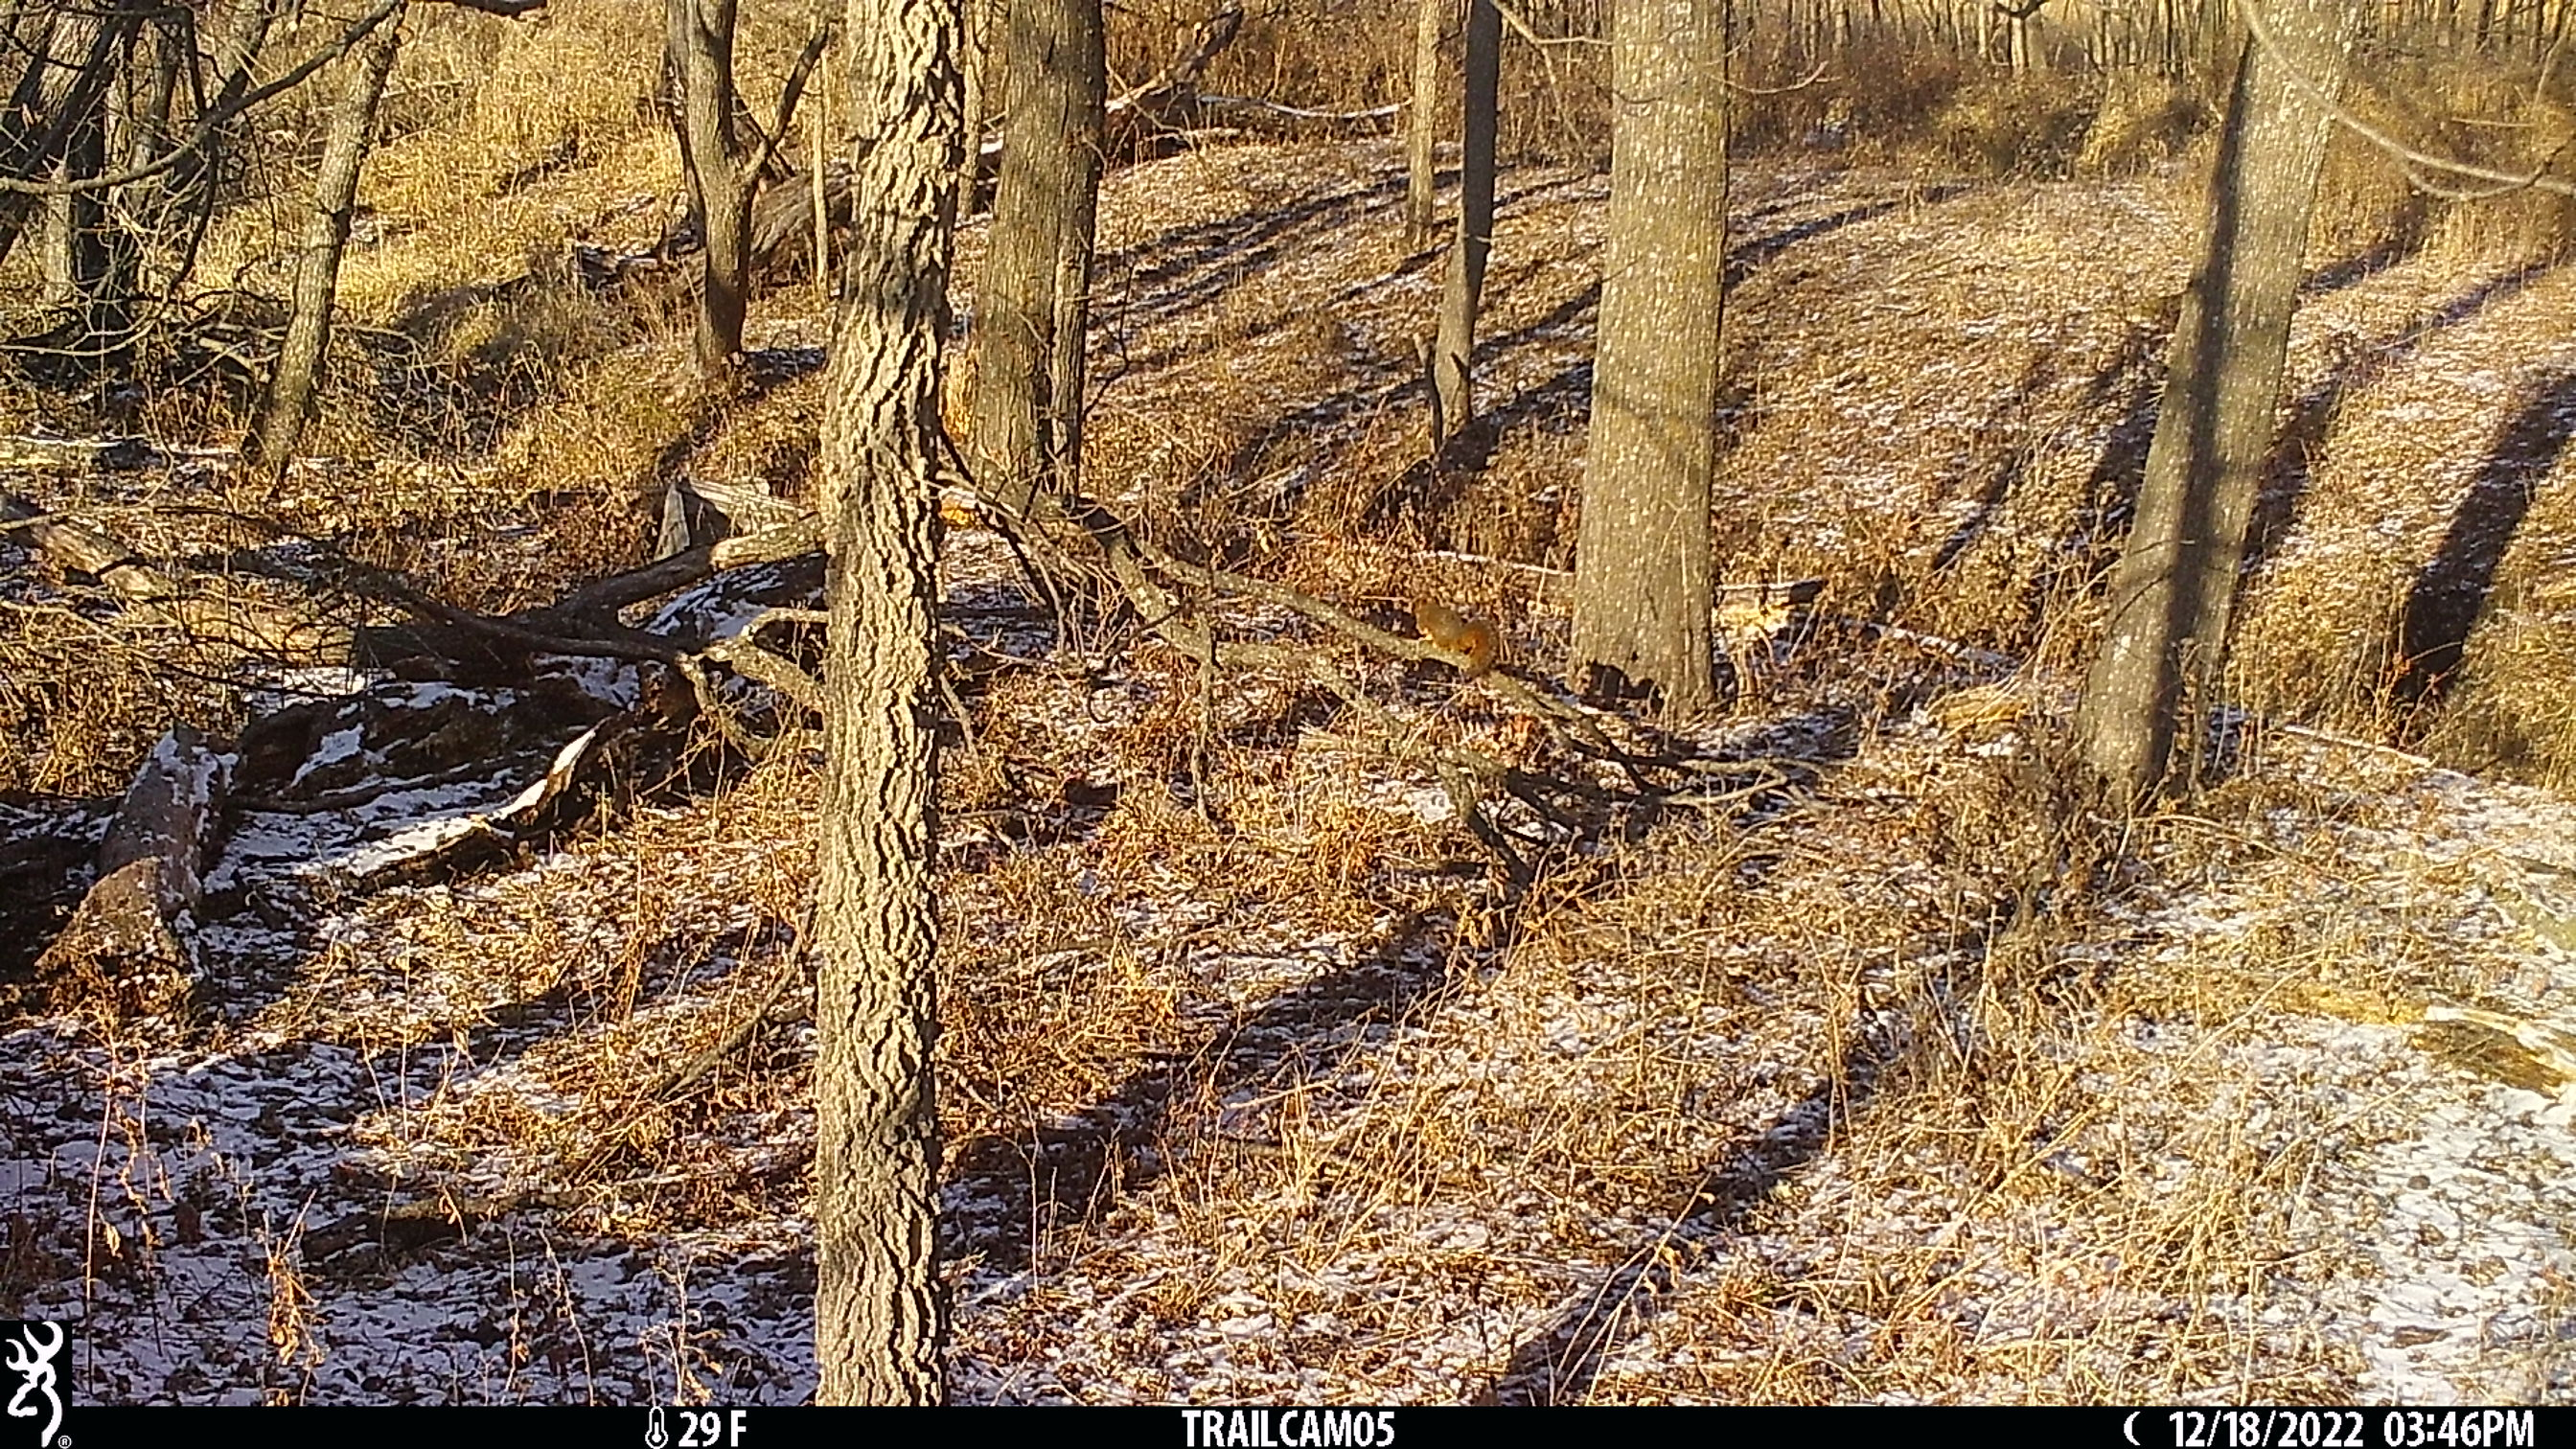Squirrel: (1410, 587, 1504, 665)
